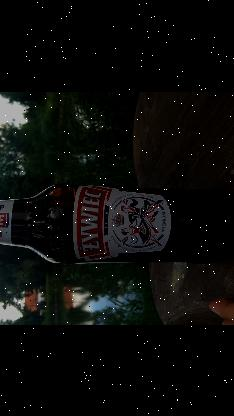Others: (0, 182, 231, 263)
